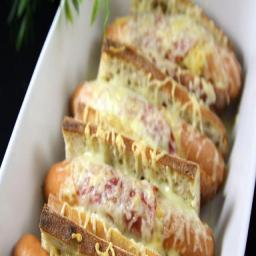hotdog: (68, 43, 229, 183), (38, 137, 226, 252)
